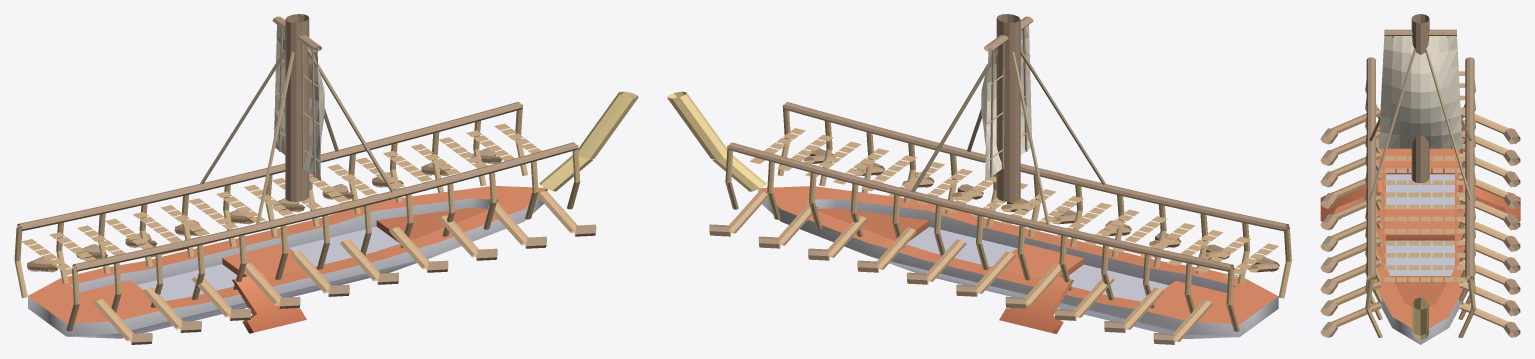
Rendered from kobaya-custom.glb.
3 renders of one model, left to right at view 1: azimuth 30°, elevation 25°; view 2: azimuth 150°, elevation 25°; view 3: azimuth 270°, elevation 25°, orthographic. The views are drawn at different scales.
Visible parts, largest first — view 1: kobaya-custom-geometry, boat-row-large, paddles; view 2: kobaya-custom-geometry, boat-row-large, paddles; view 3: kobaya-custom-geometry, boat-row-large, paddles.
Boxes of the visible parts, x1,y1,x2,y2 form: kobaya-custom-geometry: (14, 14, 638, 344); boat-row-large: (28, 186, 547, 338); paddles: (151, 236, 306, 333); kobaya-custom-geometry: (667, 14, 1291, 344); boat-row-large: (758, 186, 1278, 338); paddles: (999, 237, 1155, 333); kobaya-custom-geometry: (1320, 14, 1520, 340); boat-row-large: (1372, 125, 1468, 344); paddles: (1320, 180, 1520, 221).
Size of the model in its own units: 24.41 by 10.05 by 7.99.
7 materials, 1 textured.
